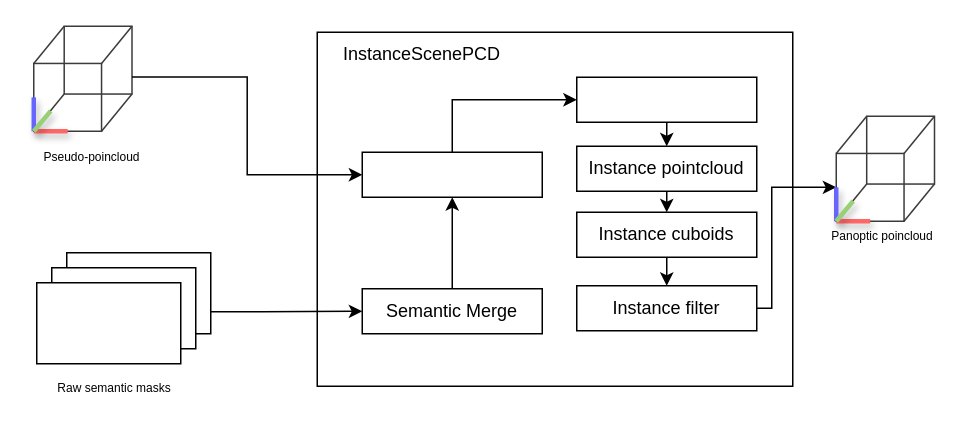
Image size: 974x435. Some labels were removed from this diagram. The centre of each missing label's shape, as x and y in pixels:
"Clusterization" belongs at [666,99].
"Semantic PCD" belongs at [451,174].
